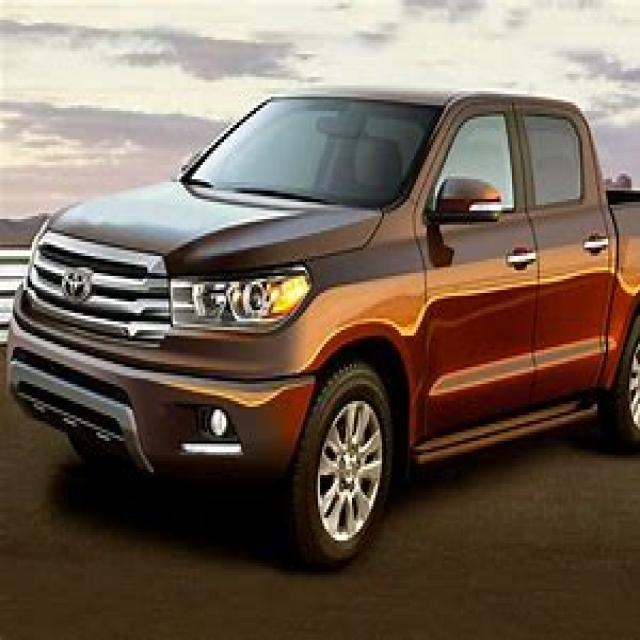light_vehicle: (13, 62, 638, 560)
